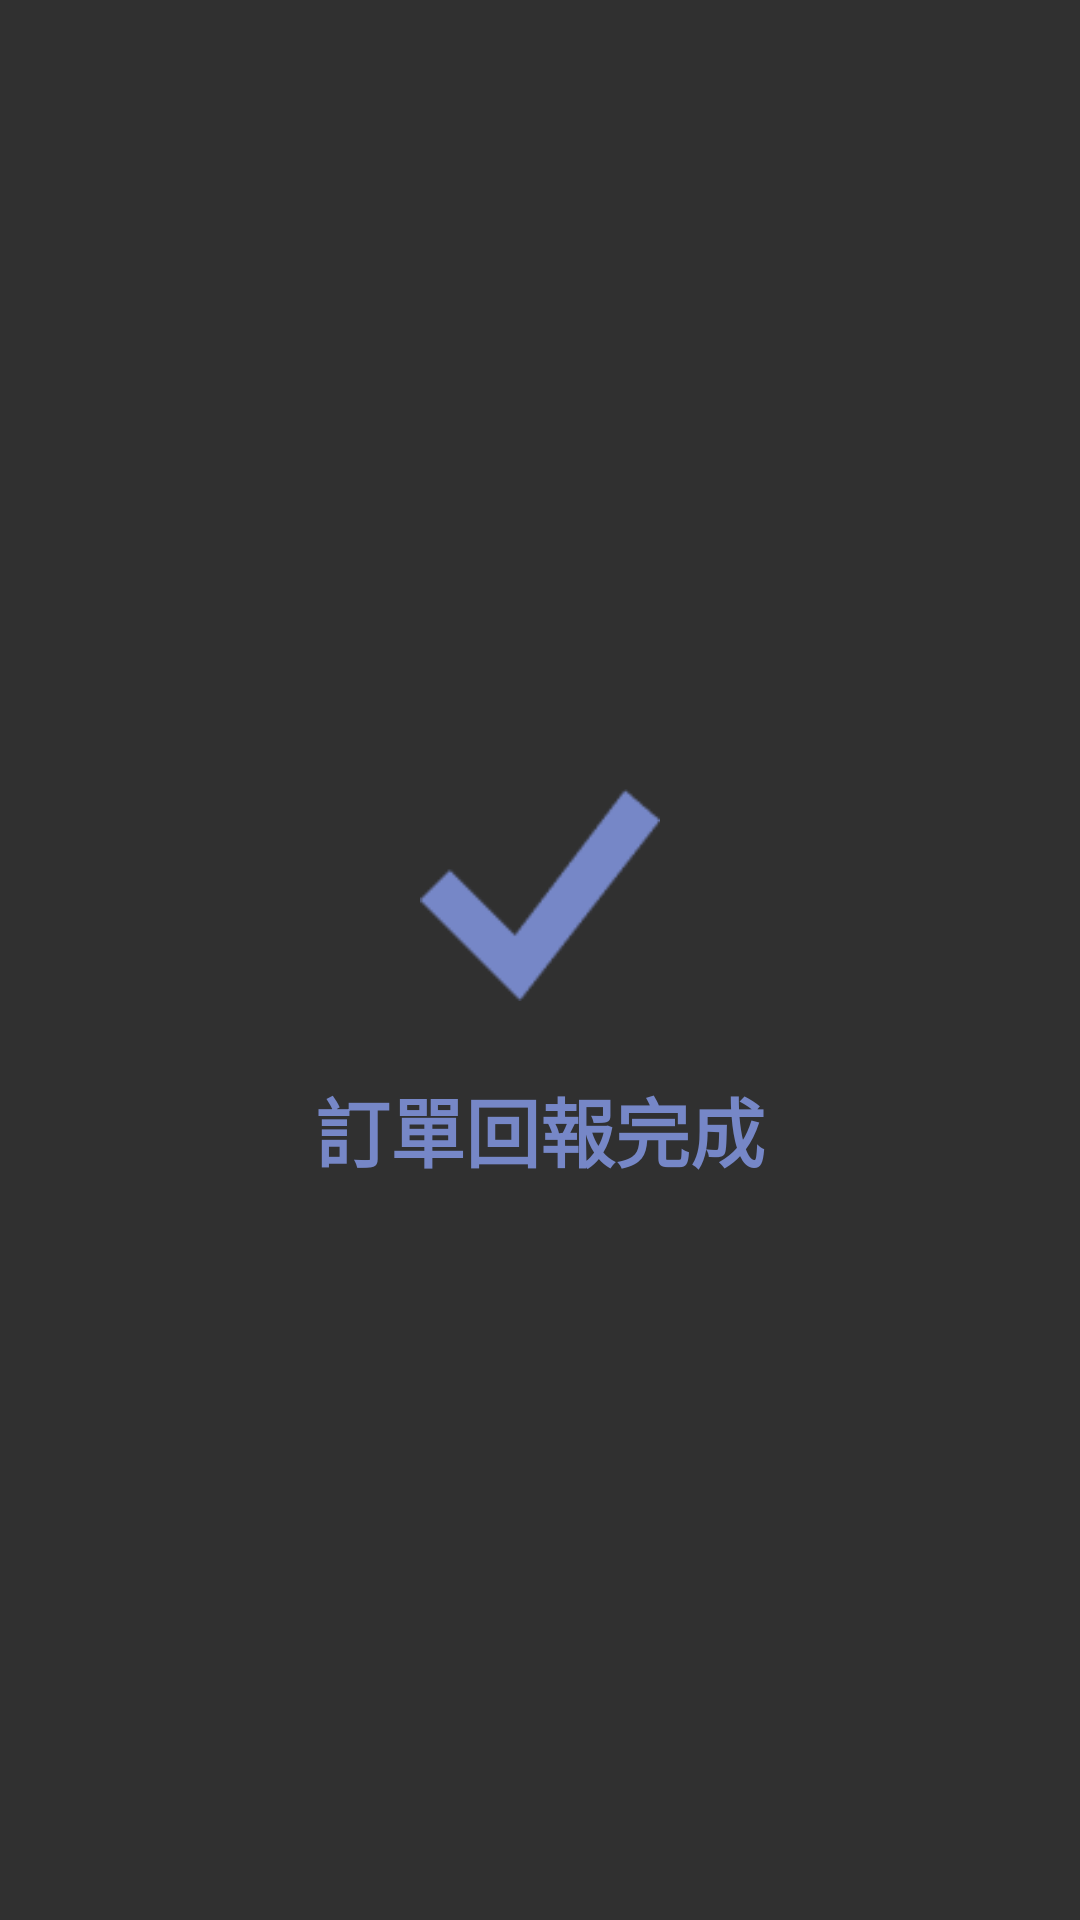

Locate icon controls on the screen. Image size 1080px x 1920px, boxes as (x1, y1, x2, y2).
reported: (420, 790, 660, 1001)
